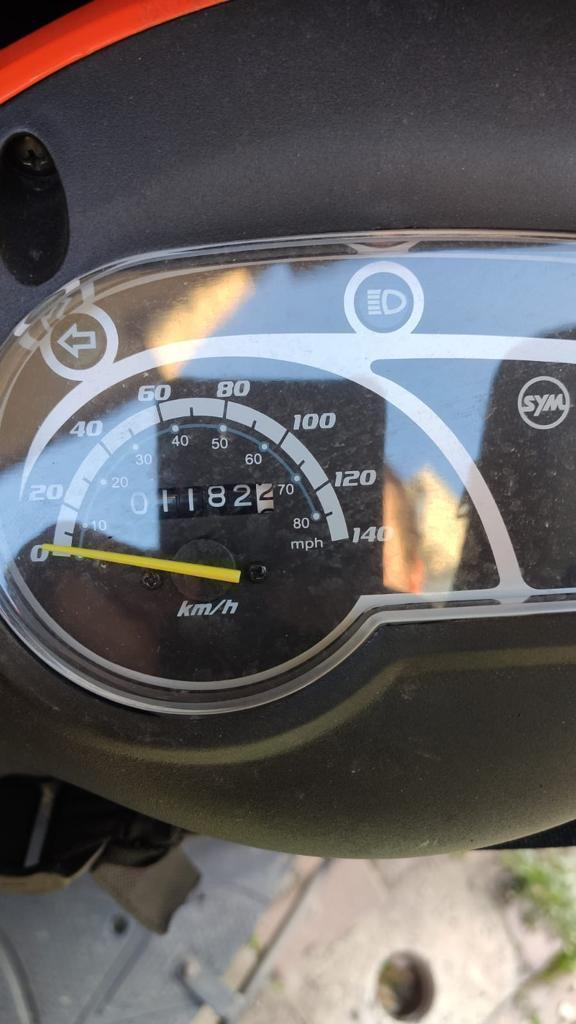0: (128, 490, 149, 516), (119, 479, 129, 488)
1: (183, 485, 197, 513), (158, 487, 172, 514)
2: (231, 482, 253, 508), (256, 480, 275, 501)
8: (206, 484, 227, 509)
odometer: (116, 479, 278, 524)
